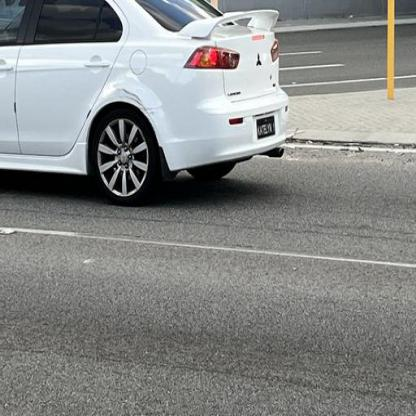Tire: (89, 108, 159, 207)
